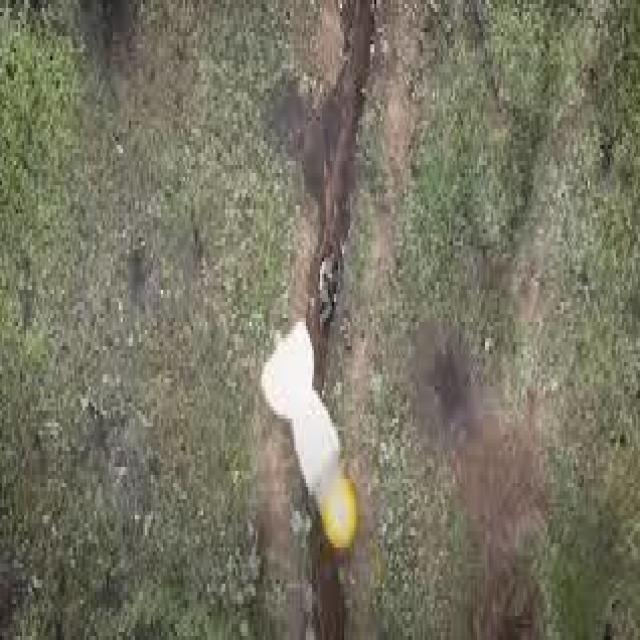grenade: (248, 310, 366, 563)
